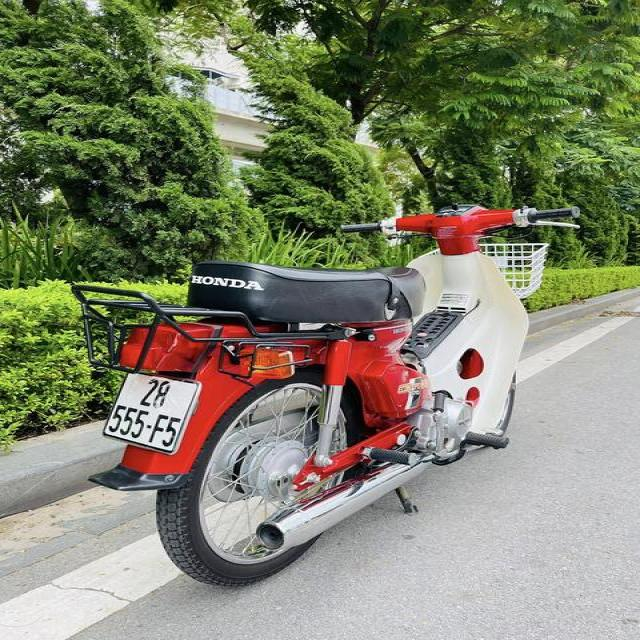motorcycle: (69, 186, 592, 587)
plate: (104, 375, 203, 454)
